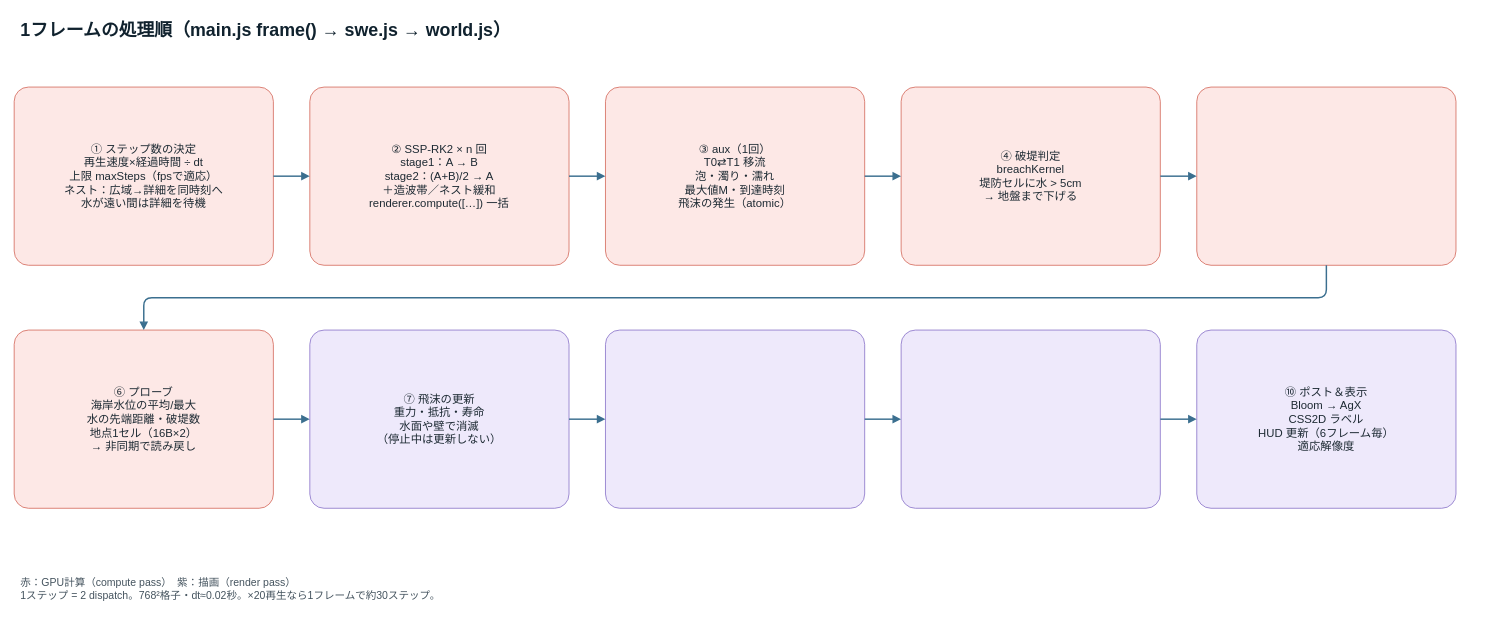
Image size: 1486x627. Some labels were removed from this diagram. Each missing label, with the centre of its shape:
"⑤ pack R（描画水位・法線・水深） R2（泡・濁り・流速） surfTex／envTex へ textureStore" goes at point (1326, 175).
"⑧ コースティクス 光子格子（≤1024²） 面積比 → causticRT 2フレームに1回" goes at point (735, 418).
"⑨ シーン描画 地形・建物・防潮壁 水面（頂点=セル） 広域・飛沫・空 影マップは静的" goes at point (1030, 418).
